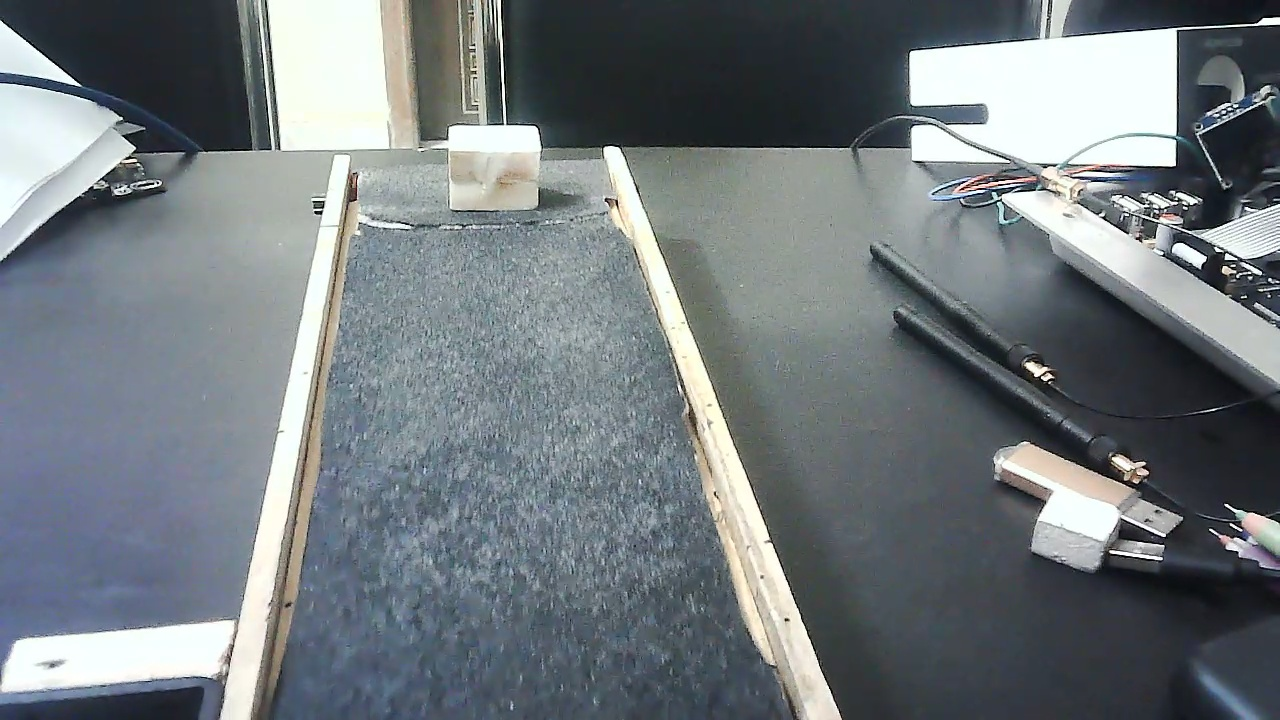Medium: (447, 120, 540, 213)
